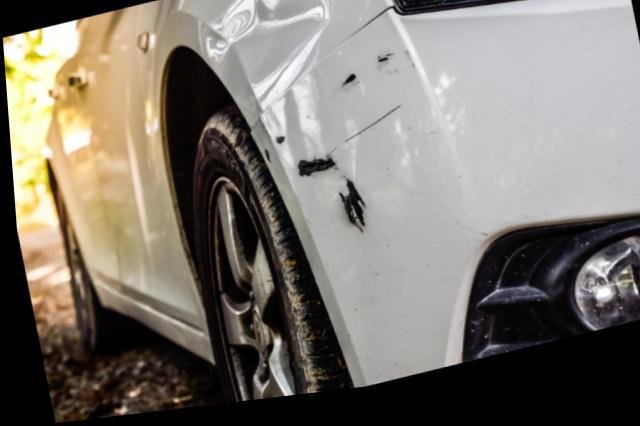dent: (200, 0, 328, 114)
scratch: (260, 57, 421, 249)
